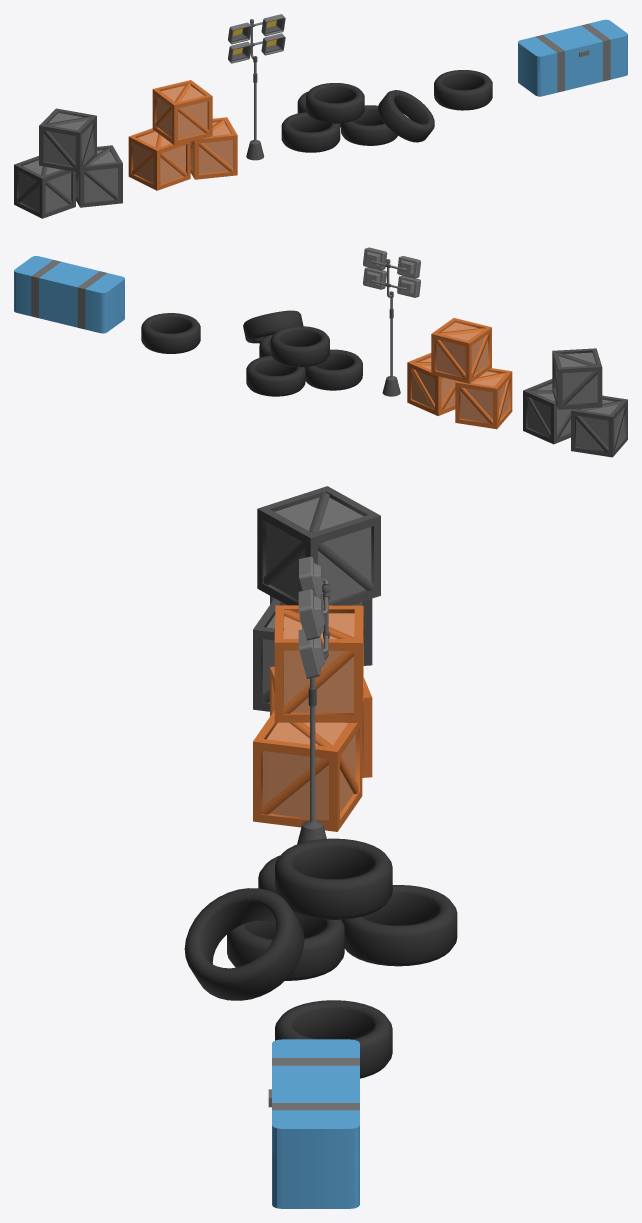
File: street_environment.fbx
The picture shows the model from 3 angles, top to bottom: view 1: azimuth 30°, elevation 25°; view 2: azimuth 150°, elevation 25°; view 3: azimuth 270°, elevation 25°; orthographic projection. The views are drawn at different scales.
Parts seen in each view (by area): view 1: boxes_w, boxes_m, tires, lootbox_head, lootbox, lamp, tire_solo; view 2: boxes_w, boxes_m, tires, lootbox_head, lootbox, lamp, tire_solo; view 3: tires, boxes_w, boxes_m, lootbox_head, tire_solo, lamp, lootbox.
Boxes of the visible parts, left/top/right/bottom form: boxes_w: left=128, top=80, right=237, bottom=190; boxes_m: left=14, top=108, right=122, bottom=218; tires: left=281, top=83, right=434, bottom=152; lootbox_head: left=518, top=19, right=627, bottom=70; lootbox: left=518, top=49, right=627, bottom=96; lamp: left=228, top=14, right=285, bottom=160; tire_solo: left=434, top=70, right=492, bottom=110; boxes_w: left=407, top=318, right=512, bottom=429; boxes_m: left=523, top=348, right=627, bottom=457; tires: left=243, top=310, right=362, bottom=396; lootbox_head: left=14, top=256, right=124, bottom=307; lootbox: left=14, top=285, right=124, bottom=333; lamp: left=363, top=247, right=420, bottom=396; tire_solo: left=141, top=313, right=200, bottom=353; tires: left=184, top=838, right=457, bottom=1000; boxes_w: left=253, top=605, right=372, bottom=831; boxes_m: left=253, top=486, right=380, bottom=711; lootbox_head: left=268, top=1039, right=359, bottom=1156; tire_solo: left=275, top=1000, right=392, bottom=1078; lamp: left=297, top=556, right=330, bottom=844; lootbox: left=272, top=1153, right=359, bottom=1208.
Bounding box in the file's own units: 934 × 207 × 185.
Materials: 7 (7 with a texture image).
